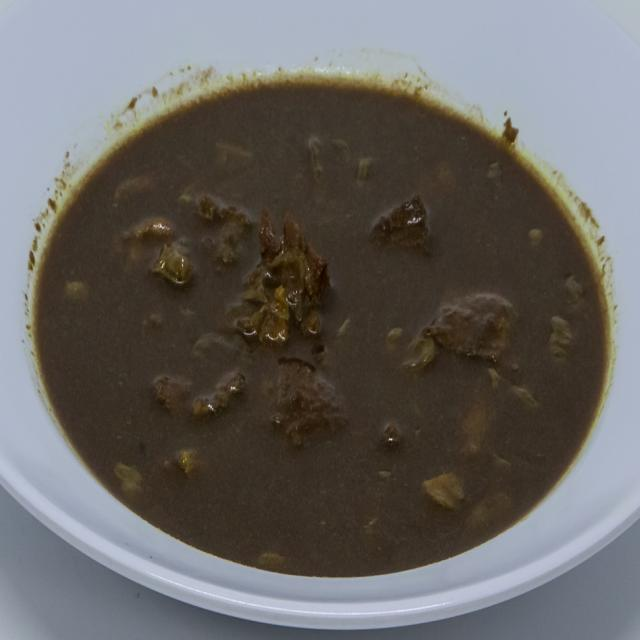Rawon-Surabaya: (25, 57, 618, 585)
